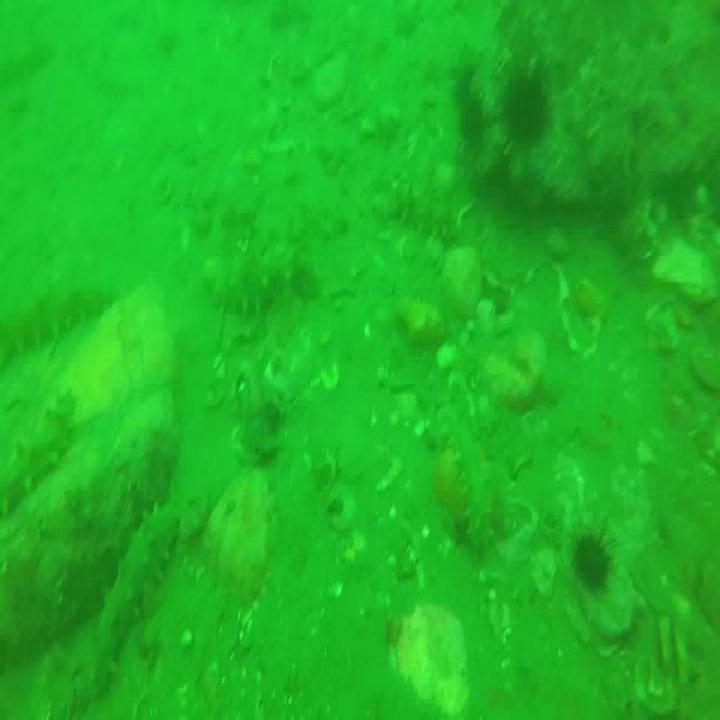echinus: (498, 55, 556, 148), (574, 526, 621, 594), (460, 90, 488, 154)
holothurian: (93, 505, 188, 684), (3, 274, 114, 362), (0, 395, 70, 533), (201, 246, 315, 323), (436, 407, 488, 555), (391, 178, 452, 244)
scallop: (436, 340, 461, 372), (415, 416, 425, 437), (388, 554, 399, 570), (487, 588, 498, 601), (333, 583, 344, 596), (421, 524, 431, 538), (389, 507, 397, 519)
